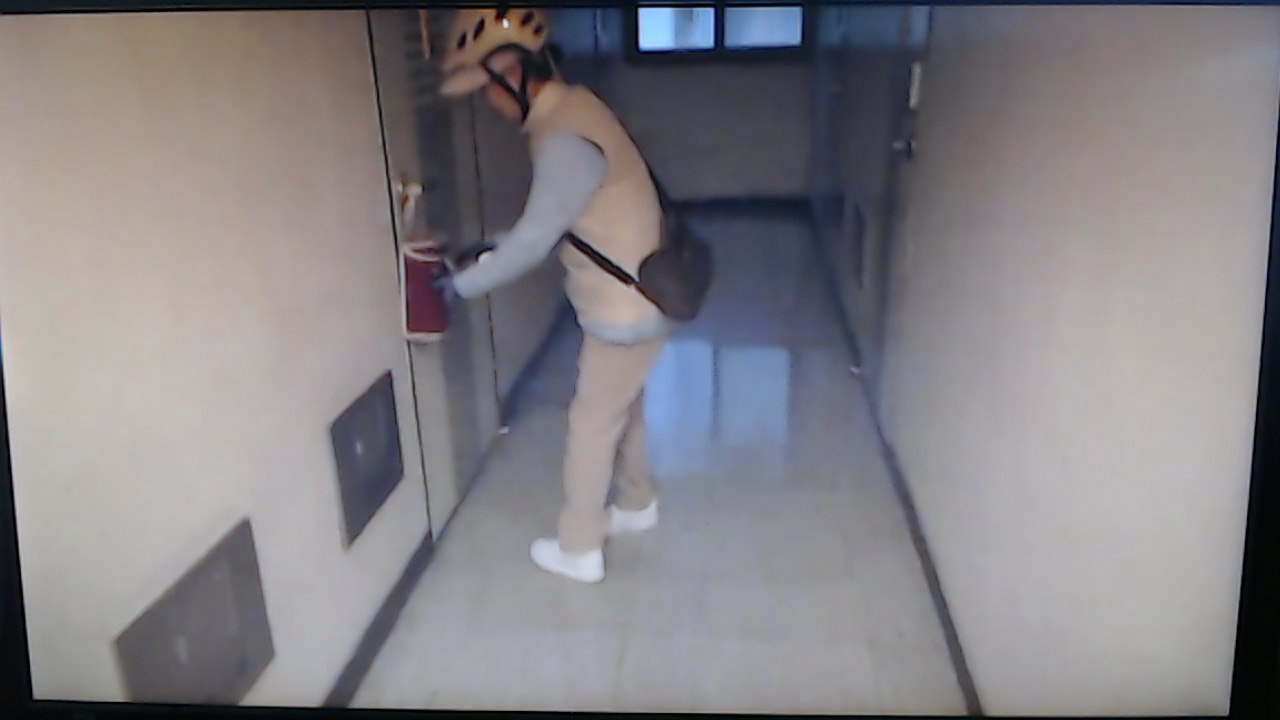Yakurut: (400, 15, 732, 595)
